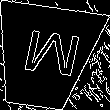M_S: (10, 28, 78, 86)
